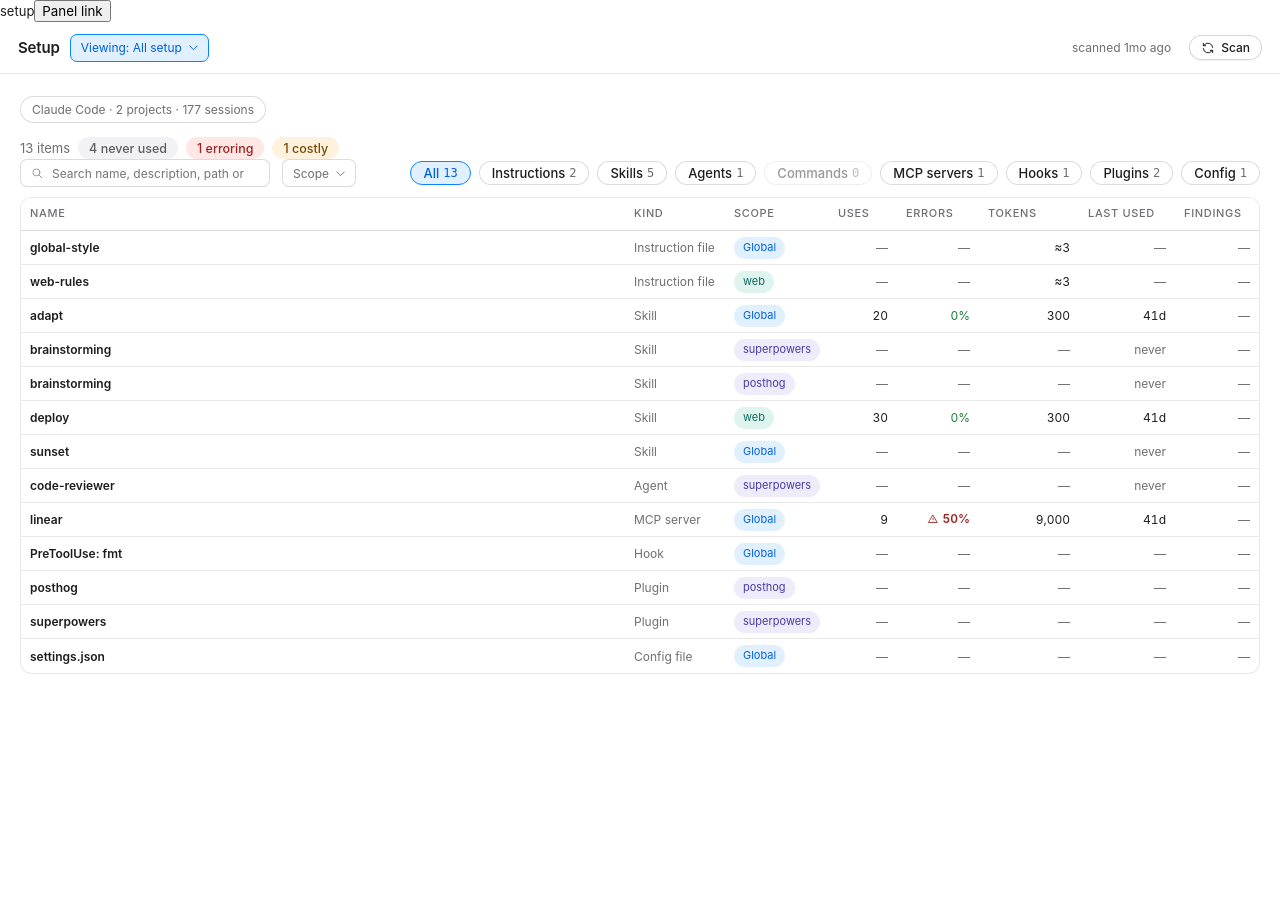
Scenario: Setup — Back over the viewer › ⌘[ over a dirty editor with focus off the textarea shows the discard confirmation and keeps the viewer open
expect the element named "Kinds" is shown: met, box [410,161,1260,185]
Step 1. Click the radio button labelled "Skills 5" → (632, 173), box [597,161,667,185]
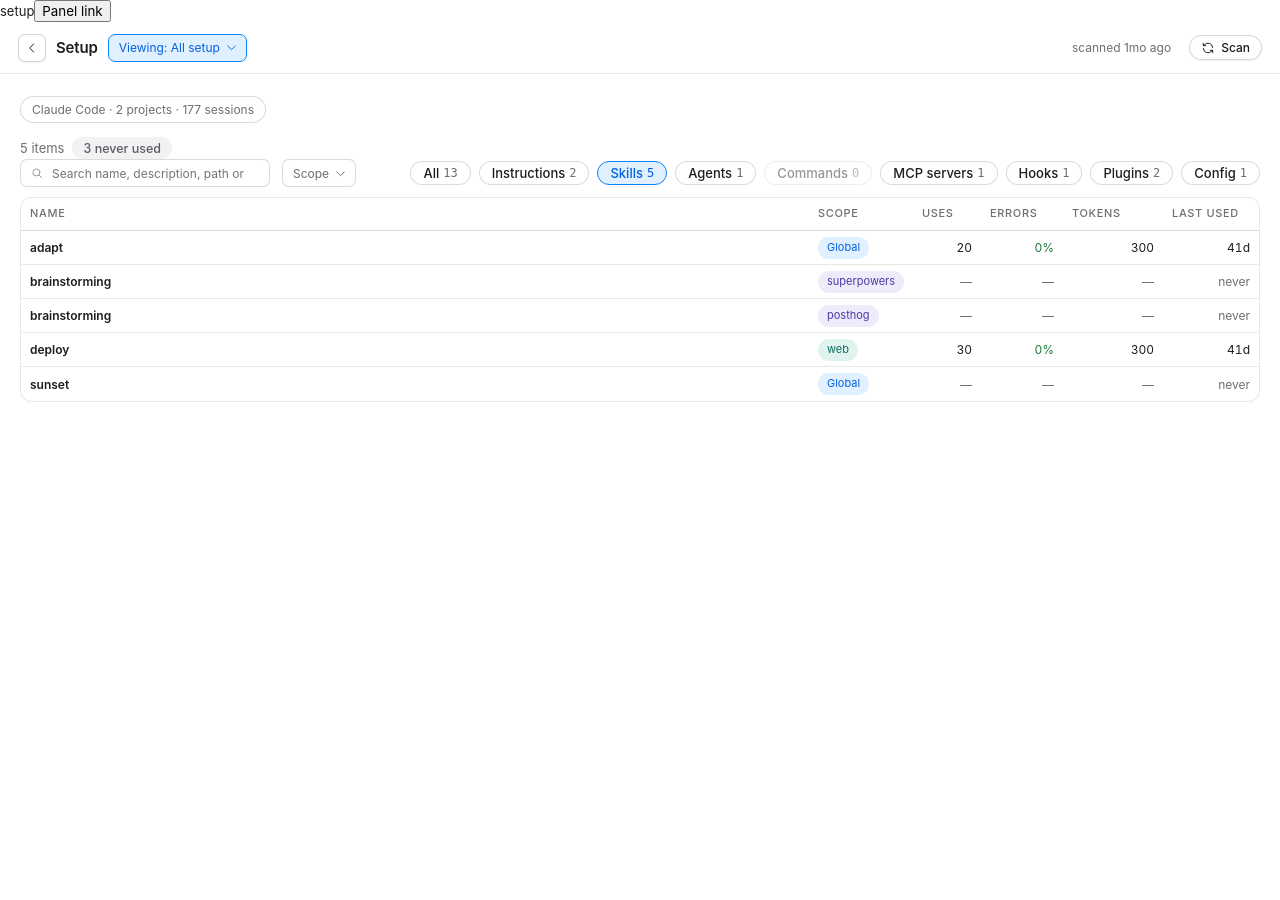
Step 2. Click the row with class "dt__row" showing "adapt Global 20 0% 300 41d" → (640, 248), box [21,231,1259,265]
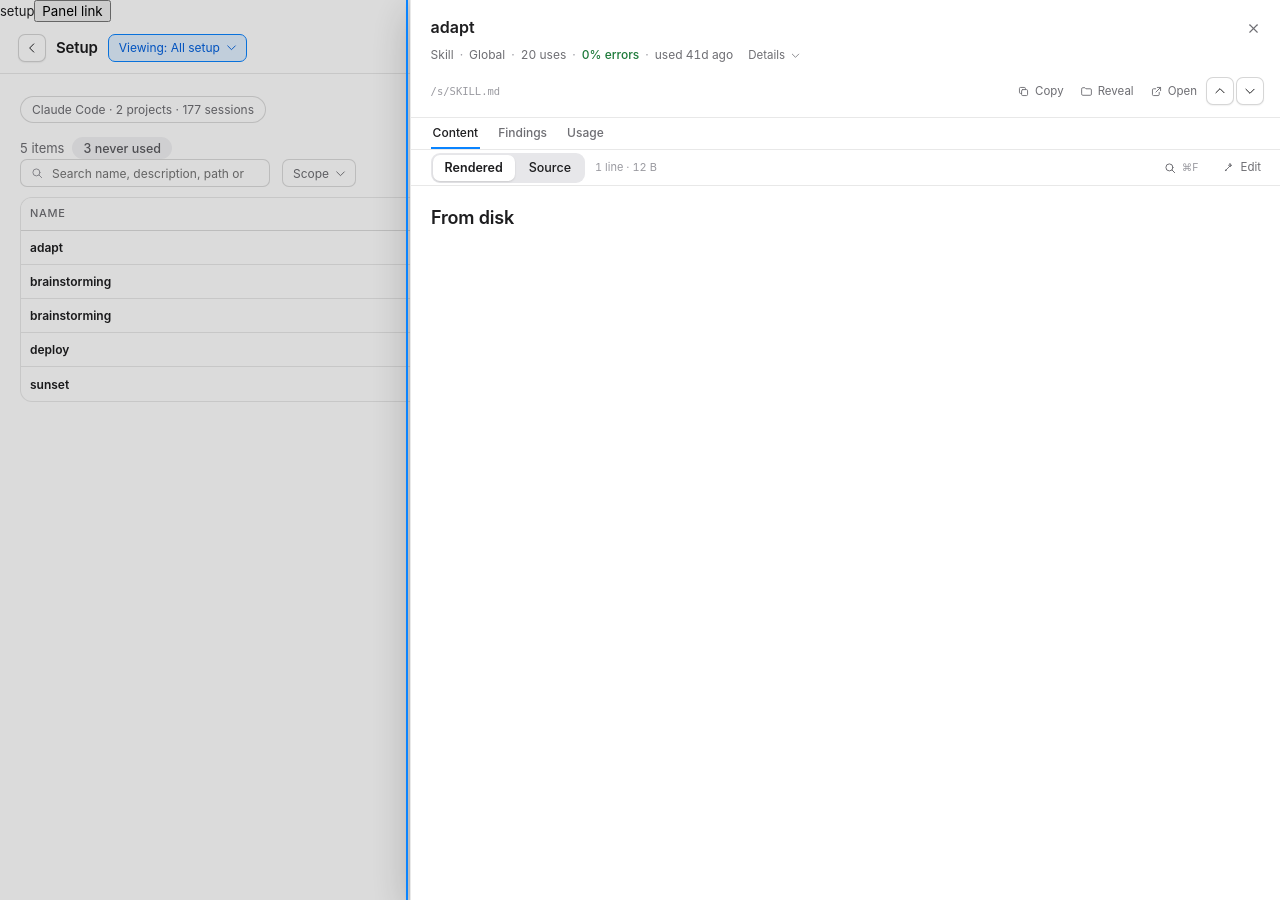
expect the heading "From disk" is shown: met, box [431,207,514,228]
Step 3. Click the button "Edit" → (1242, 168), box [1216,156,1268,180]
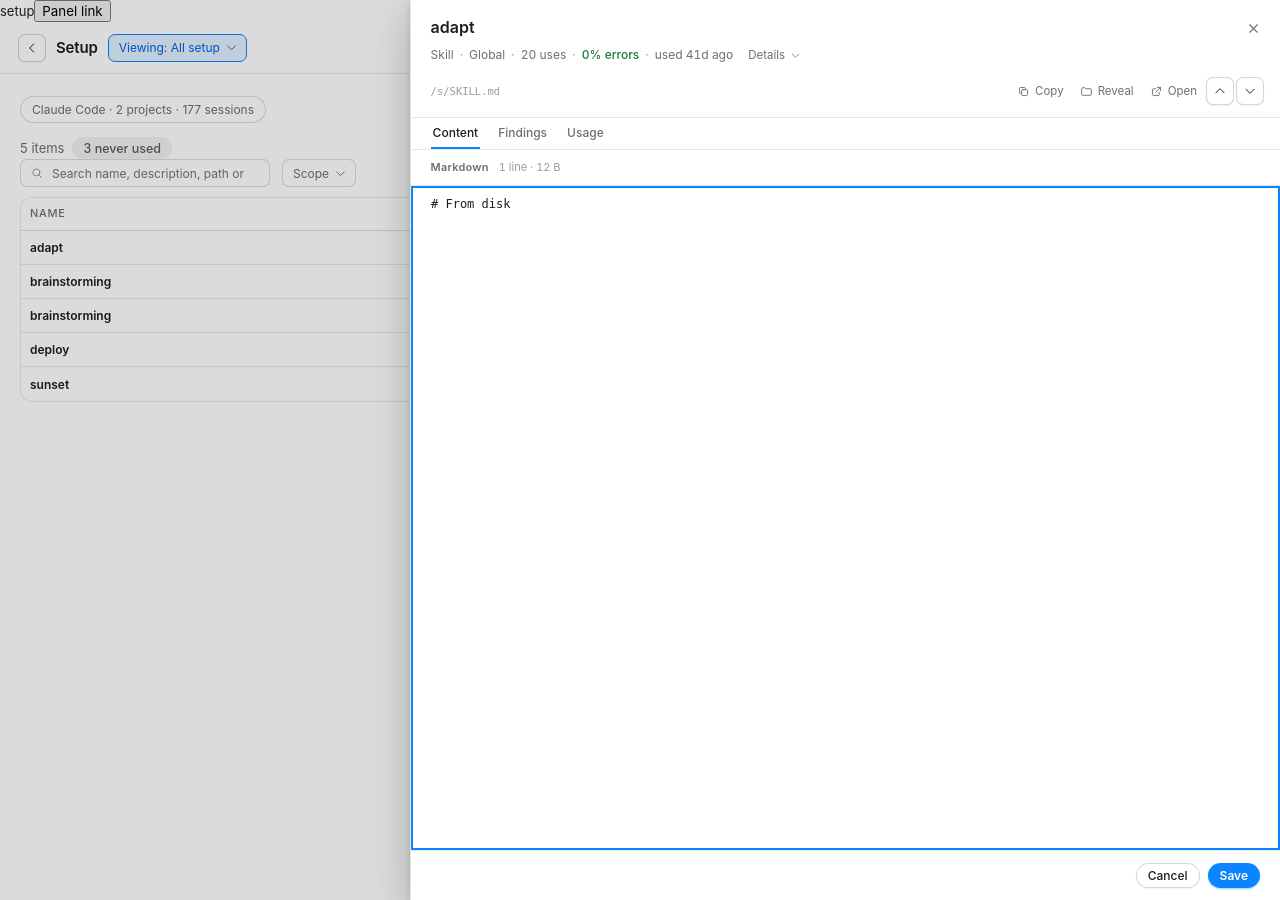
Step 4. Replace the text in the text box named "Item source" with "# Edited" → (845, 518), box [411,186,1279,850]
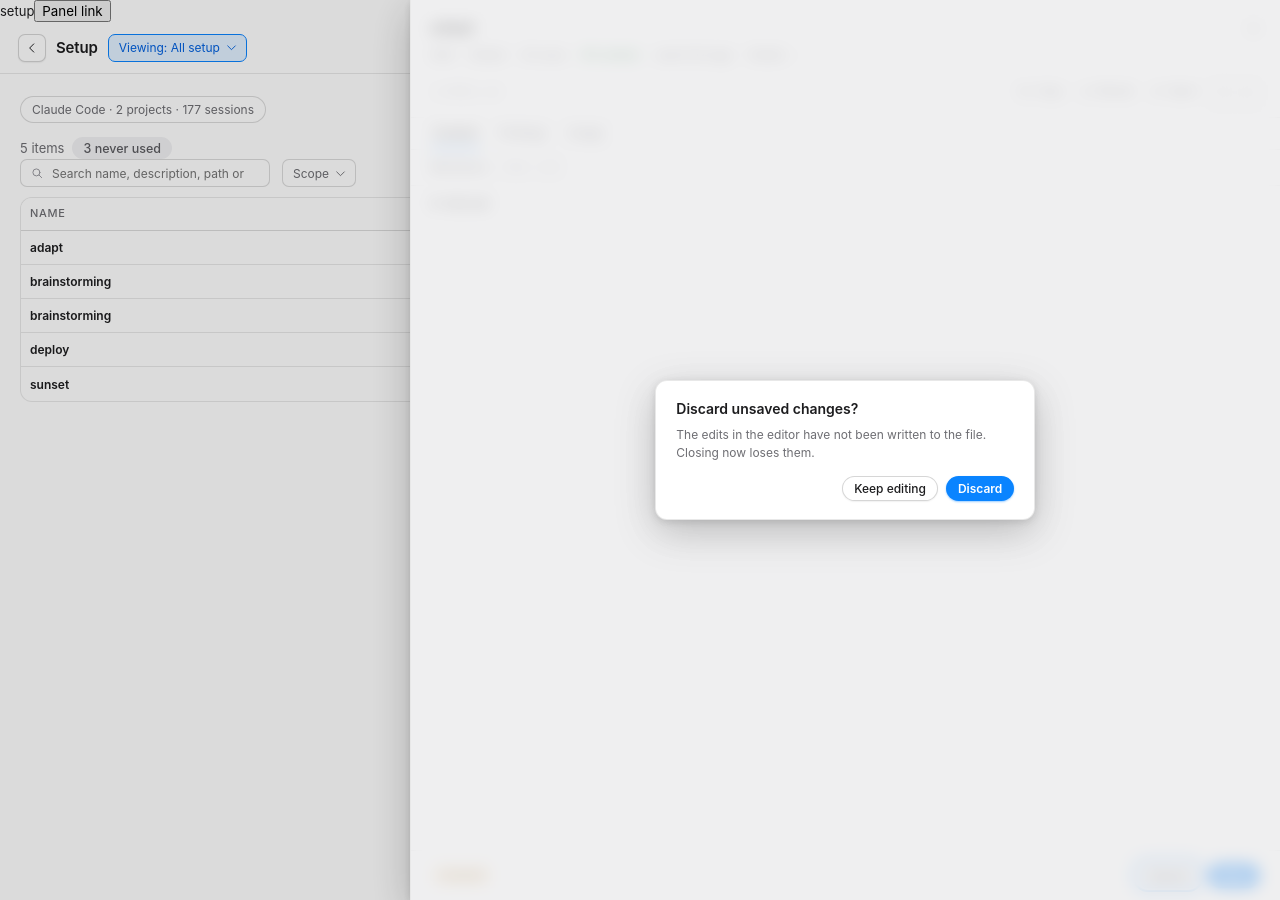
expect the dialog "Discard unsaved changes?" is shown: met
